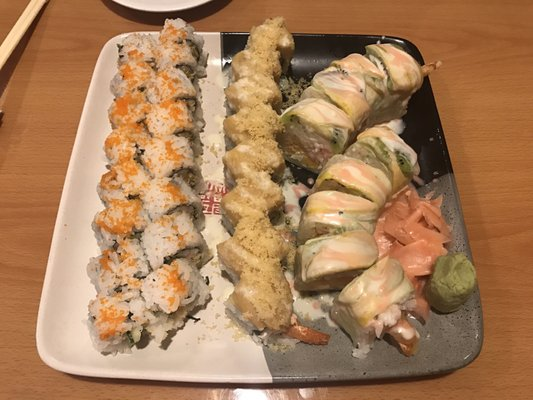curry: (2, 2, 531, 400)
